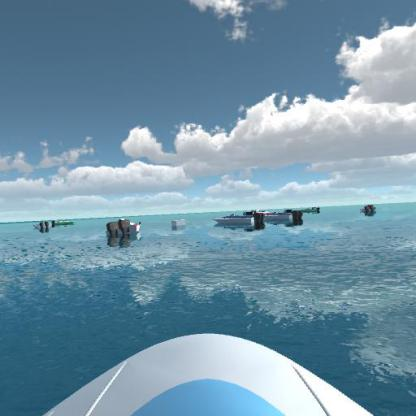usv0: (52, 215, 82, 229), (301, 200, 322, 216)
usv1: (212, 211, 268, 233), (266, 209, 304, 226), (31, 216, 54, 234)
usv3: (99, 213, 144, 236), (358, 201, 383, 217), (244, 207, 273, 219)
